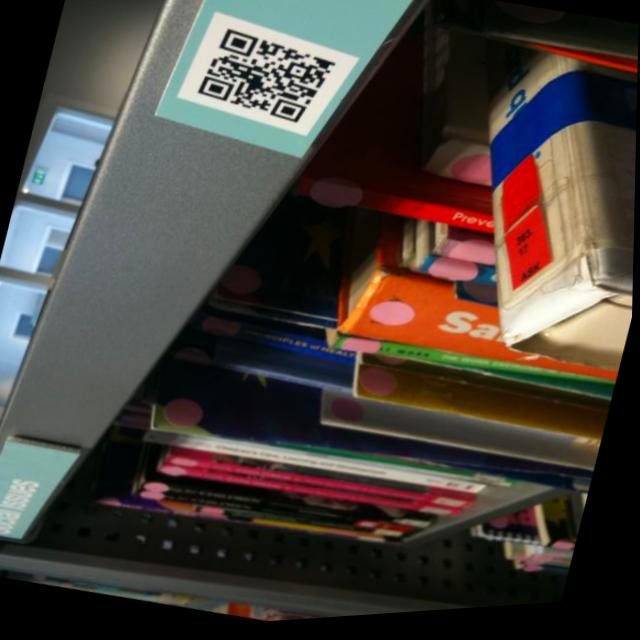qrcode: (196, 23, 342, 137)
